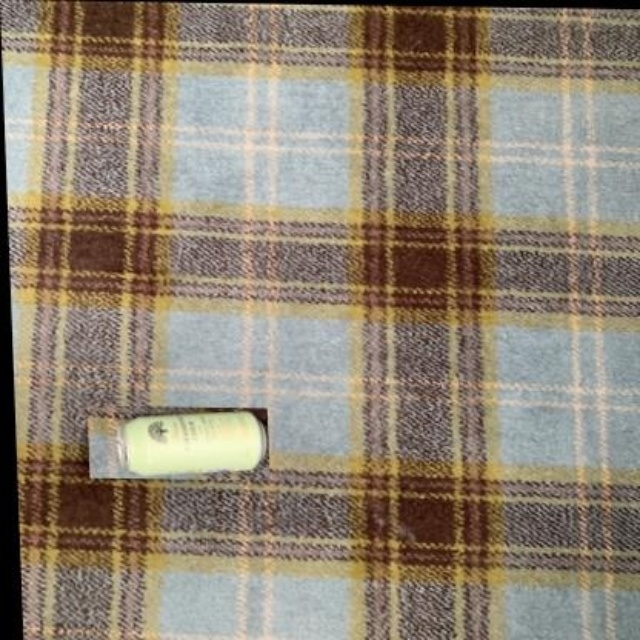trash: (88, 409, 266, 477)
